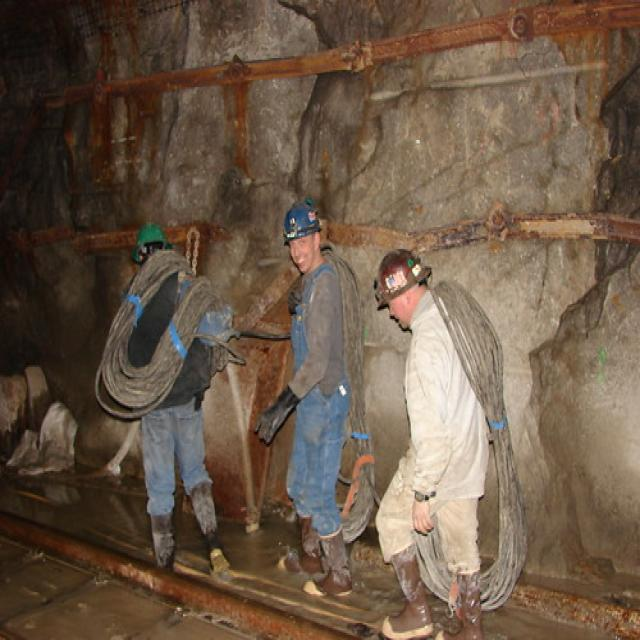Safety-Helmet: (367, 234, 438, 321), (273, 193, 330, 251), (123, 212, 177, 266)
